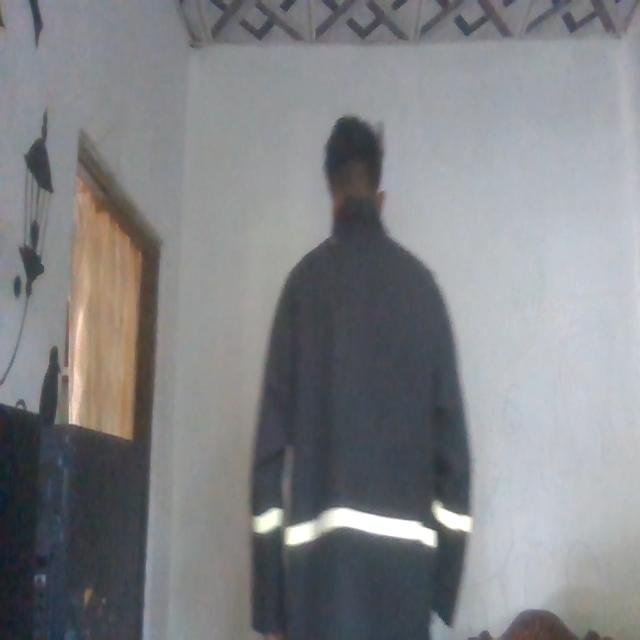Jacket_Wearer: (240, 203, 468, 640)
Person: (250, 91, 461, 640)
